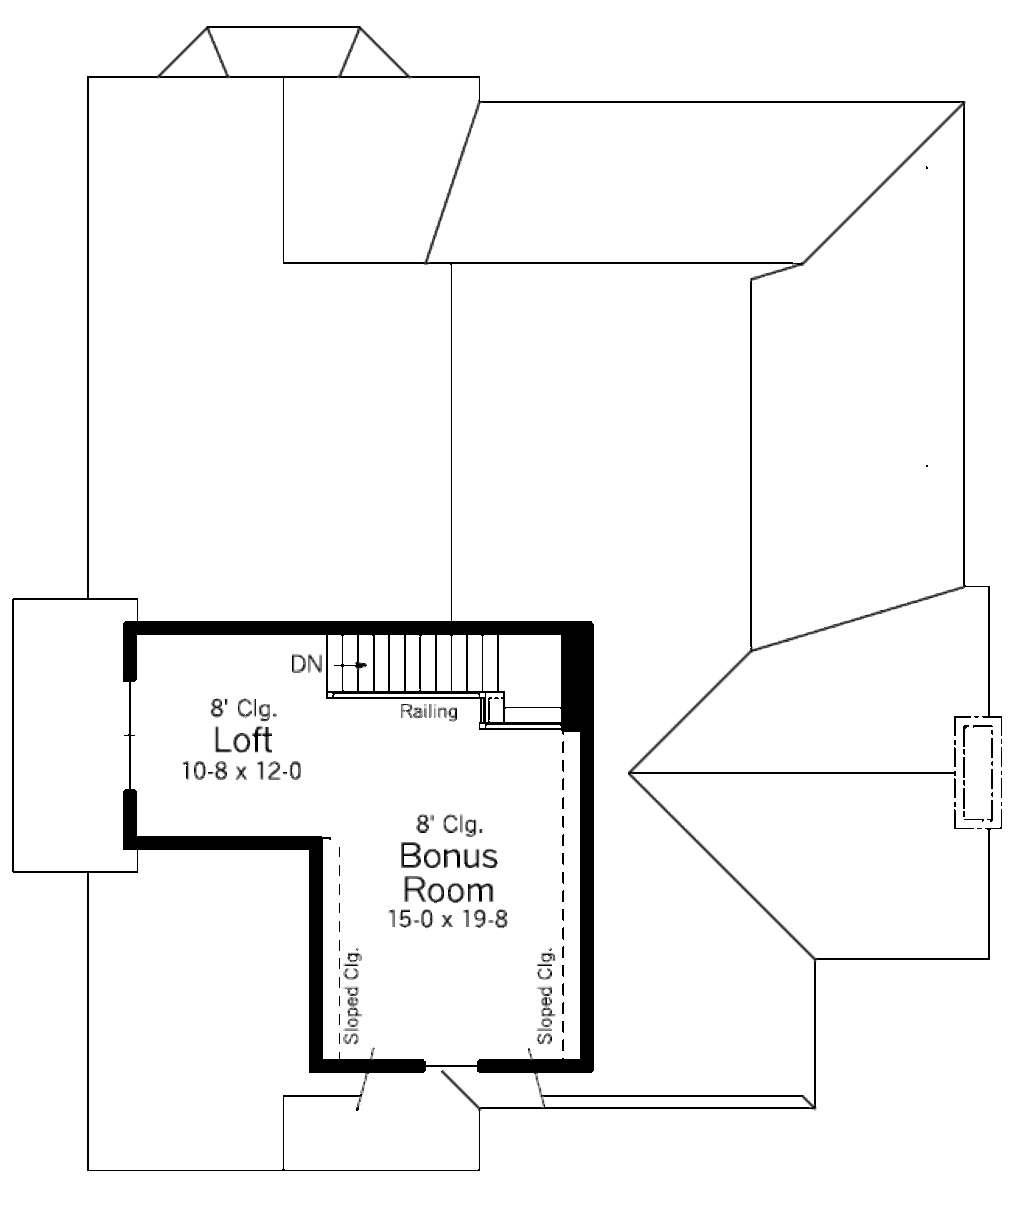stairs: (298, 638, 572, 748)
